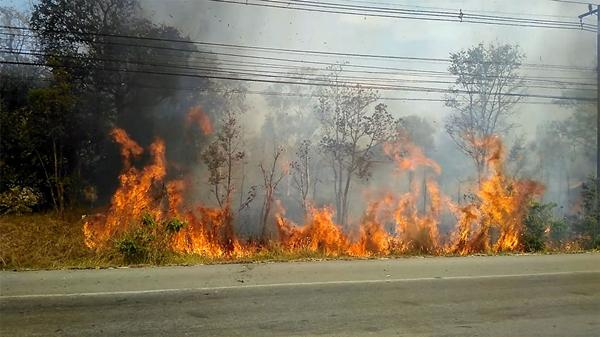fire: (67, 122, 556, 286)
